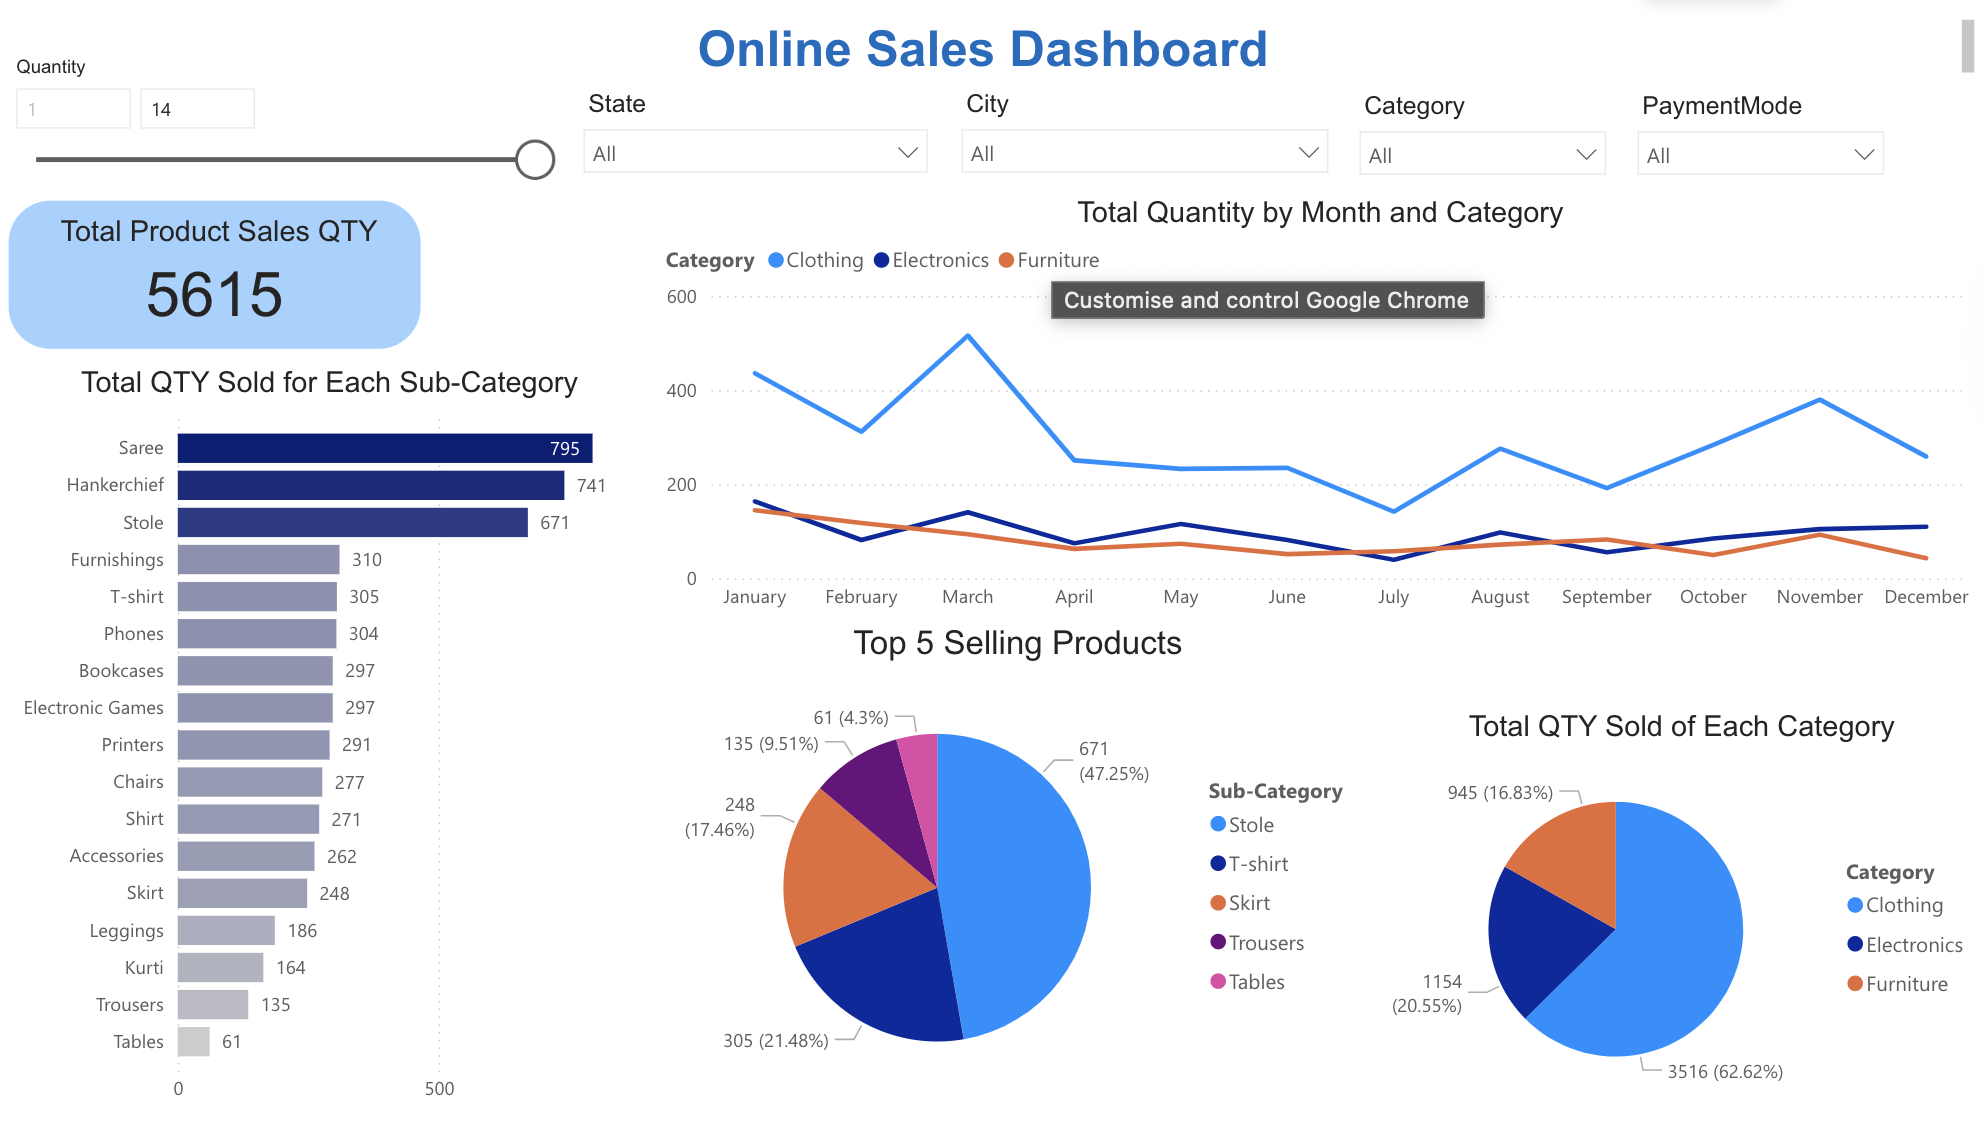

Layout of this report page (visuals, bound fields, positions):
{"tool":"powerbi","page":{"name":"Product Sales Overview","canvas":[1280,720],"ordinal":0},"visuals":[{"type":"clusteredBarChart","title":"Total QTY Sold for Each Sub-Category","fields":{"Category":["Details.Sub-Category"],"Y":["Sum(Details.Quantity)"]},"box":[4.9,238.6,419.5,483.7],"z":0},{"type":"card","title":"Total Product Sales QTY","fields":{"Values":["Product.Total Quantity"]},"box":[5,128.8,271.2,101.2],"z":1000},{"type":"slicer","fields":{"Values":["Details.Quantity"]},"box":[0,32.9,368.5,90.5],"z":2000},{"type":"slicer","fields":{"Values":["Details.Category"]},"box":[869,56.1,179,72.8],"z":3000},{"type":"textbox","box":[0,10,1280,45.4],"z":4000},{"type":"pieChart","title":"Total QTY Sold of Each Category","fields":{"Category":["Details.Category"],"Y":["Sum(Details.Quantity)"]},"box":[890.1,460.7,391.6,261.6],"z":5000},{"type":"pieChart","title":"Top 5 Selling Products","fields":{"Y":["Product.Total Quantity"],"Category":["Details.Sub-Category"]},"box":[426.1,404.7,464,315.9],"z":6000},{"type":"areaChart","fields":{"Y":["Product.Total Quantity"],"Category":["Orders.Parsed Order Date.Variation.Date Hierarchy.Month"],"Series":["Product.Category"]},"box":[426.1,128.3,853.9,276.4],"z":7000},{"type":"slicer","fields":{"Values":["Orders.State"]},"box":[368.5,55.9,241.9,72.4],"z":8000},{"type":"slicer","fields":{"Values":["Orders.City"]},"box":[612,55.9,256.7,72.4],"z":9000},{"type":"slicer","fields":{"Values":["Details.PaymentMode"]},"box":[1048,56.1,179,72.8],"z":9001}]}

Visuals, with their boxes on the page's 1280x720 design canvas (x1, y1, x2, y2). These are canvas units, not pixel positions in the 1982x1126 screenshot, which may show the page scaled, cropped or inside an application window:
"Total QTY Sold for Each Sub-Category" clusteredBarChart: Rect(5, 239, 424, 722)
"Total Product Sales QTY" card: Rect(5, 129, 276, 230)
slicer - Details.Quantity: Rect(0, 33, 368, 123)
slicer - Details.Category: Rect(869, 56, 1048, 129)
textbox: Rect(0, 10, 1280, 55)
"Total QTY Sold of Each Category" pieChart: Rect(890, 461, 1282, 722)
"Top 5 Selling Products" pieChart: Rect(426, 405, 890, 721)
areaChart - Product.Total Quantity x Orders.Parsed Order Date.Variation.Date Hierarchy.Month: Rect(426, 128, 1280, 405)
slicer - Orders.State: Rect(368, 56, 610, 128)
slicer - Orders.City: Rect(612, 56, 869, 128)
slicer - Details.PaymentMode: Rect(1048, 56, 1227, 129)
